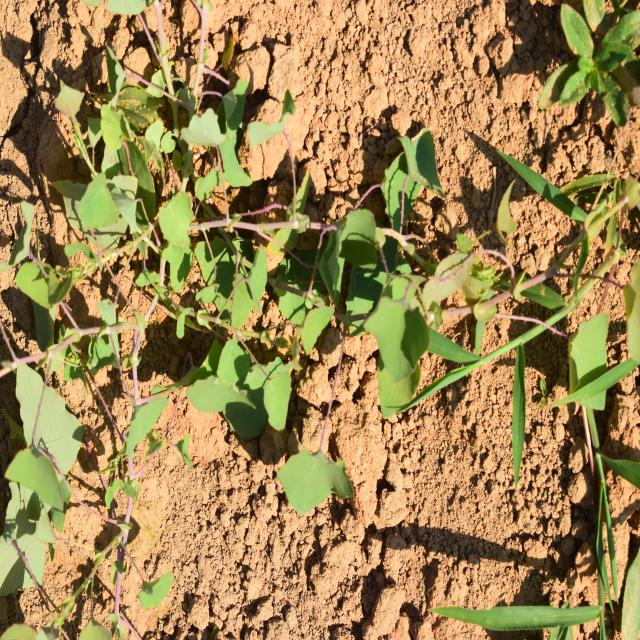Asiatic_Smartweed: (211, 203, 441, 504), (0, 228, 123, 576), (119, 81, 254, 301)
